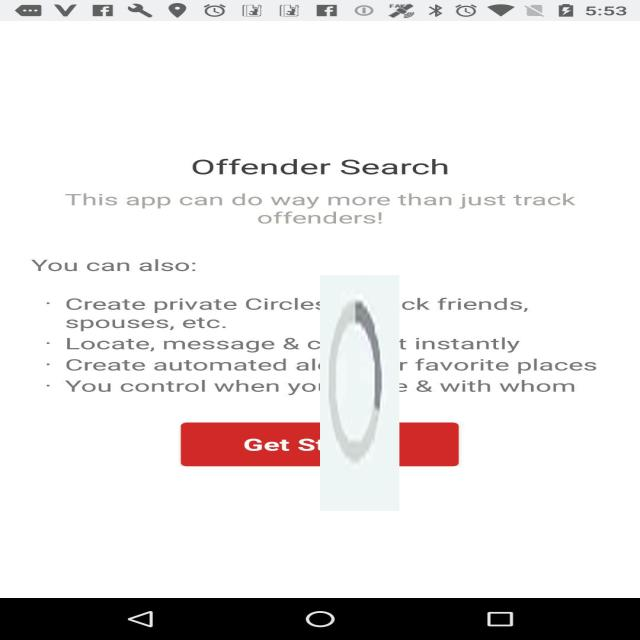misdirection: (320, 275, 399, 511)
